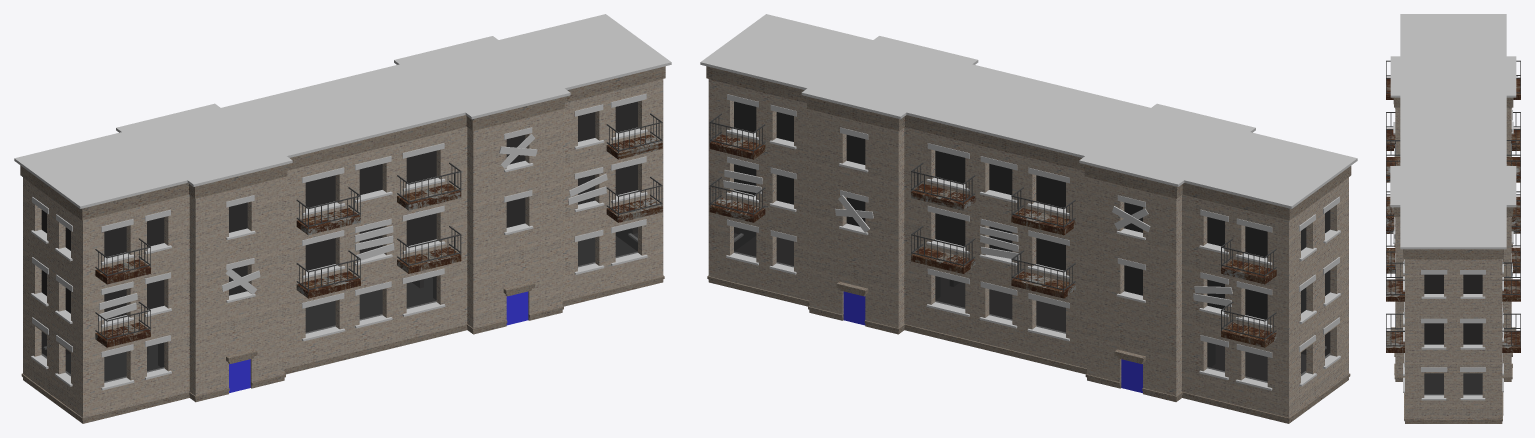
File: house fina2l.fbx
3 renders of one model, left to right at view 1: azimuth 30°, elevation 25°; view 2: azimuth 150°, elevation 25°; view 3: azimuth 270°, elevation 25°, orthographic. The views are drawn at different scales.
Visible parts, largest first — view 1: Cube.001; view 2: Cube.001; view 3: Cube.001.
Part boxes in pixels (bbox=[...]): Cube.001: bbox=[14, 14, 671, 423]; Cube.001: bbox=[700, 14, 1357, 423]; Cube.001: bbox=[1386, 14, 1520, 423].
Bounding box in the file's own units: 4243 × 1515 × 1036.
